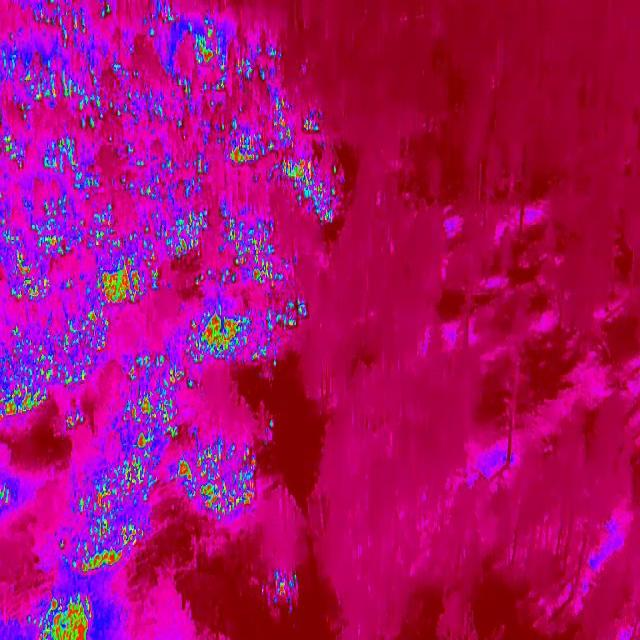fire: (172, 18, 348, 224), (104, 164, 299, 294), (0, 0, 110, 168), (54, 442, 158, 572), (0, 314, 110, 434), (0, 190, 80, 304), (178, 298, 314, 364), (168, 432, 258, 522), (122, 347, 197, 448), (86, 242, 170, 310), (34, 595, 96, 640), (272, 566, 298, 606), (0, 480, 14, 510), (266, 418, 277, 433)
